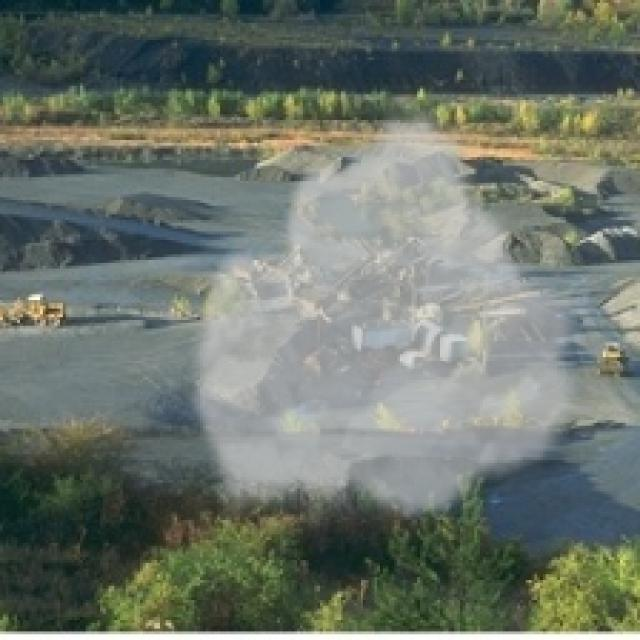smoke: (183, 103, 591, 523)
